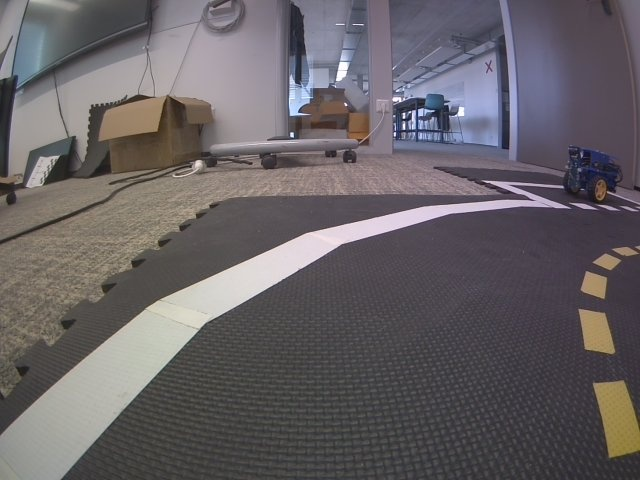Bot: (562, 145, 624, 202)
occupiedSlot: (482, 181, 640, 213)
